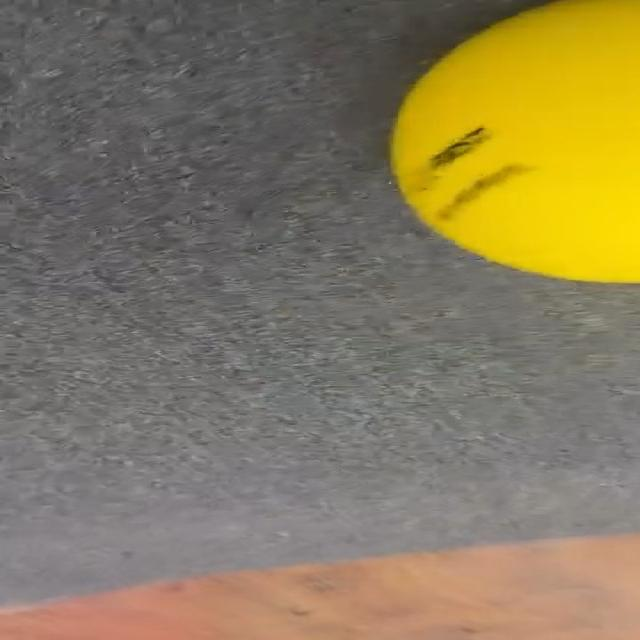Fuels: (396, 0, 640, 281)
